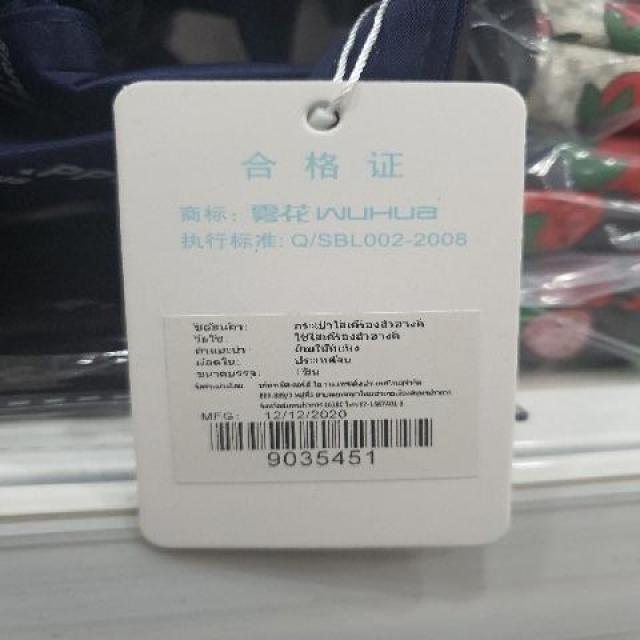Barcode: (196, 414, 453, 469)
